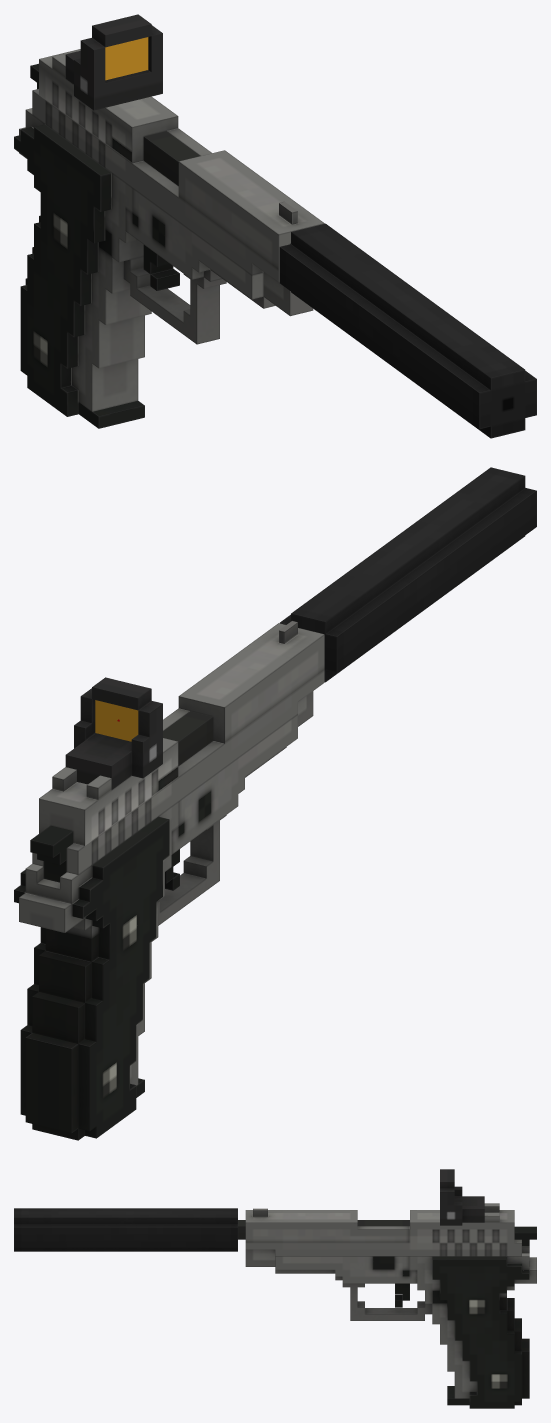
3 views of the same model, one above another, from view 1: azimuth 30°, elevation 25°; view 2: azimuth 150°, elevation 25°; view 3: azimuth 270°, elevation 25° (orthographic). The views are drawn at different scales.
Visible parts, largest first — view 1: SIG_SAUER_P226, SILENCER_5X5, SIG_SAUER_P226_FRAME, SCOPE_TRIJICON, SIG_SAUER_P226_CLIP; view 2: SIG_SAUER_P226, SIG_SAUER_P226_FRAME, SILENCER_5X5, SCOPE_TRIJICON, SIG_SAUER_P226_TRIGGER; view 3: SIG_SAUER_P226, SIG_SAUER_P226_FRAME, SILENCER_5X5, SCOPE_TRIJICON, SIG_SAUER_P226_TRIGGER.
Part boxes in pixels (x1,y1,x2,y2): SIG_SAUER_P226: [14, 108, 290, 416]; SILENCER_5X5: [279, 223, 536, 438]; SIG_SAUER_P226_FRAME: [32, 49, 324, 316]; SCOPE_TRIJICON: [65, 14, 162, 110]; SIG_SAUER_P226_CLIP: [78, 401, 144, 428]; SIG_SAUER_P226: [14, 711, 297, 1140]; SIG_SAUER_P226_FRAME: [32, 621, 324, 874]; SILENCER_5X5: [280, 467, 536, 682]; SCOPE_TRIJICON: [65, 677, 162, 789]; SIG_SAUER_P226_TRIGGER: [30, 825, 73, 882]; SIG_SAUER_P226: [238, 1220, 536, 1408]; SIG_SAUER_P226_FRAME: [245, 1203, 521, 1266]; SILENCER_5X5: [14, 1208, 237, 1251]; SCOPE_TRIJICON: [440, 1169, 484, 1225]; SIG_SAUER_P226_TRIGGER: [514, 1226, 536, 1246].
Size of the model in its own units: 0.0591 by 0.3248 by 0.689.
Materials: 4 (4 with a texture image).
